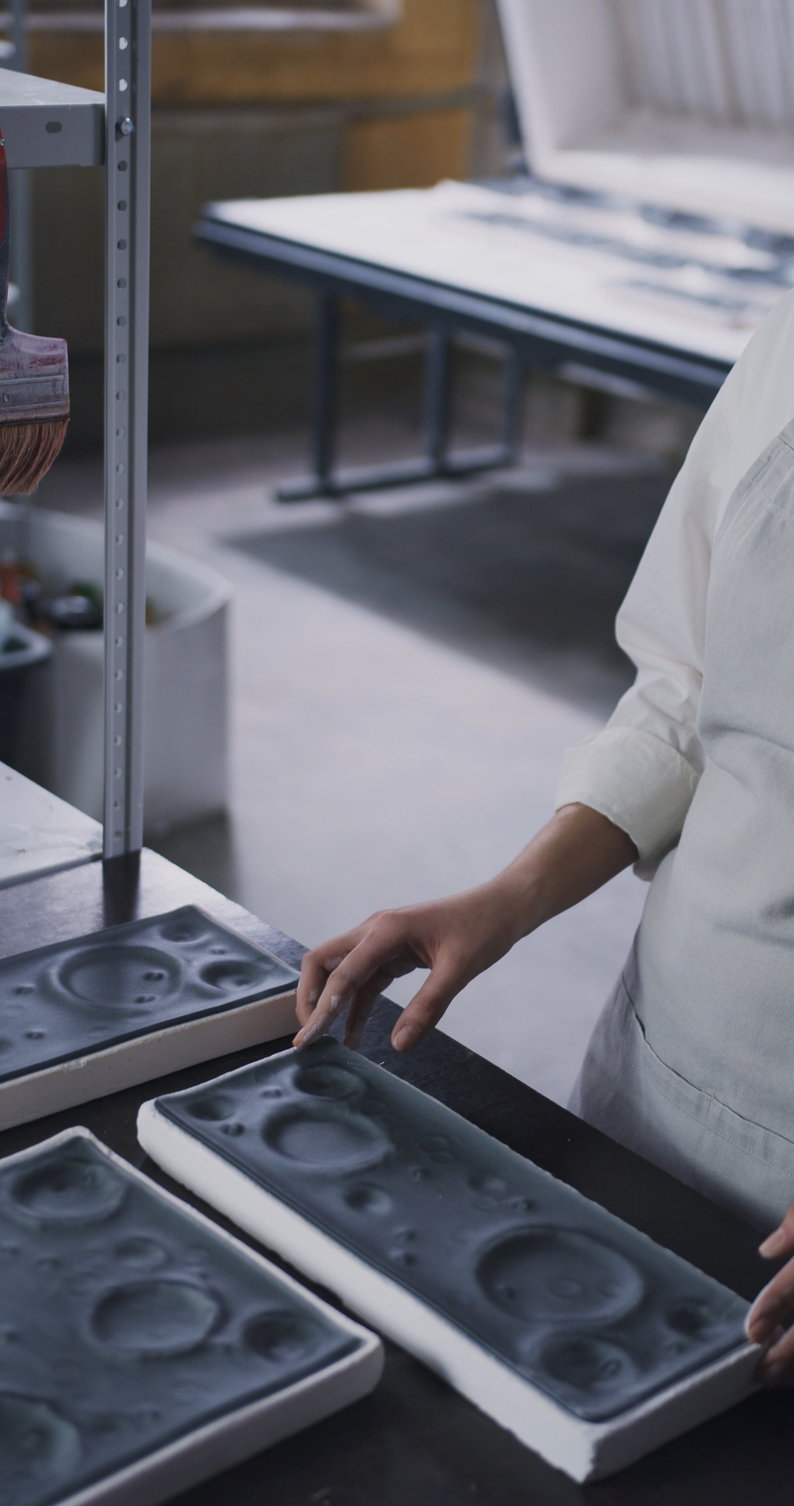No-gloves: (257, 860, 499, 1069), (691, 1191, 794, 1452)
